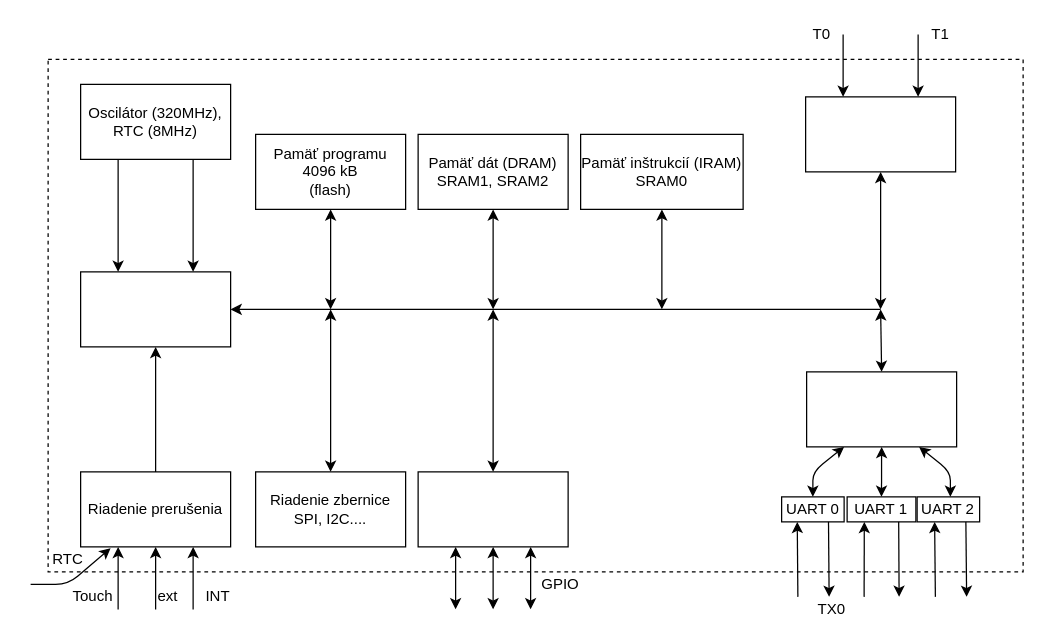
This 1045x643 diagram has some shape labels left out. Here are the shapes that lost their labels. From the top down, the centre of each, then its label:
point (880, 134): 64-bitové časovače
point (155, 309): ESP32 CPU
point (881, 409): Programovateľný sériový V/V
point (492, 509): Vstupno-výstupné vývody
